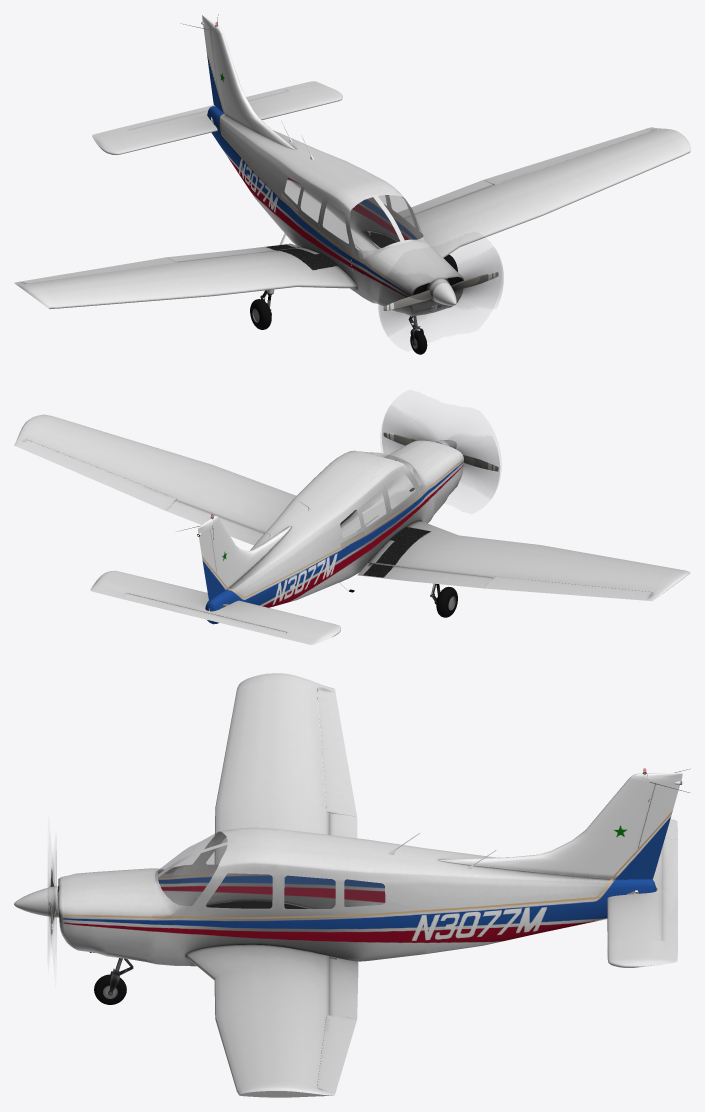
3 views of the same model, one above another, from view 1: azimuth 30°, elevation 25°; view 2: azimuth 150°, elevation 25°; view 3: azimuth 270°, elevation 25° (orthographic). The views are drawn at different scales.
Visible parts, largest first — view 1: body, fuselage_rear, wing_left_outer, wing_left_inner, wing_right_inner, wing_right_outer, elevator, propeller_disc, fin, aileron_left, aileron_right, flap_left (+5 smaller); view 2: body, fuselage_rear, wing_left_outer, elevator, wing_right_inner, wing_right_outer, wing_left_inner, propeller_disc, aileron_left, fin, aileron_right, flap_right (+4 smaller); view 3: body, fuselage_rear, wing_left_inner, wing_right_outer, wing_left_outer, elevator, fin, wing_right_inner, aileron_right, rudder, aileron_left, flap_left (+3 smaller).
Boxes of the visible parts, <box> form: body: <box>287,159,463,316</box>; fuselage_rear: <box>210,81,351,244</box>; wing_left_outer: <box>503,127,690,214</box>; wing_left_inner: <box>360,182,544,257</box>; wing_right_inner: <box>173,226,356,296</box>; wing_right_outer: <box>14,263,212,309</box>; elevator: <box>92,81,342,155</box>; propeller_disc: <box>379,248,503,333</box>; fin: <box>180,14,239,134</box>; aileron_left: <box>484,128,652,184</box>; aileron_right: <box>19,257,176,283</box>; flap_left: <box>397,180,492,217</box>; body: <box>293,440,463,578</box>; fuselage_rear: <box>207,499,354,624</box>; wing_left_outer: <box>14,414,209,495</box>; elevator: <box>90,570,340,644</box>; wing_right_inner: <box>368,499,541,577</box>; wing_right_outer: <box>502,545,690,601</box>; wing_left_inner: <box>170,464,356,532</box>; propeller_disc: <box>382,407,499,496</box>; aileron_left: <box>19,439,176,510</box>; fin: <box>177,514,247,611</box>; aileron_right: <box>483,576,652,600</box>; flap_right: <box>357,563,493,588</box>; body: <box>57,827,372,977</box>; fuselage_rear: <box>372,826,638,960</box>; wing_left_inner: <box>187,905,366,1018</box>; wing_right_outer: <box>215,673,335,806</box>; wing_left_outer: <box>215,1008,335,1097</box>; elevator: <box>607,819,677,967</box>; fin: <box>589,768,690,899</box>; wing_right_inner: <box>206,796,329,908</box>; aileron_right: <box>317,688,356,816</box>; rudder: <box>627,773,683,879</box>; aileron_left: <box>317,1015,356,1092</box>; flap_left: <box>329,956,358,1019</box>.
Bounding box in the file's own units: 10.69 × 2.84 × 7.33.
Materials: 7 (3 with a texture image).
